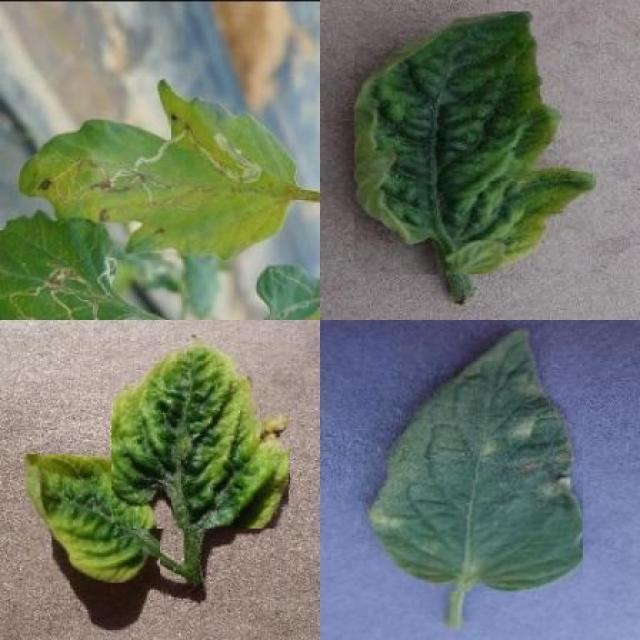Leaf Miner: (18, 77, 296, 260)
Leaf Mold: (366, 328, 583, 592)
Yellow Leaf Curl Virus: (354, 12, 596, 274), (112, 346, 288, 528), (26, 454, 160, 583)
